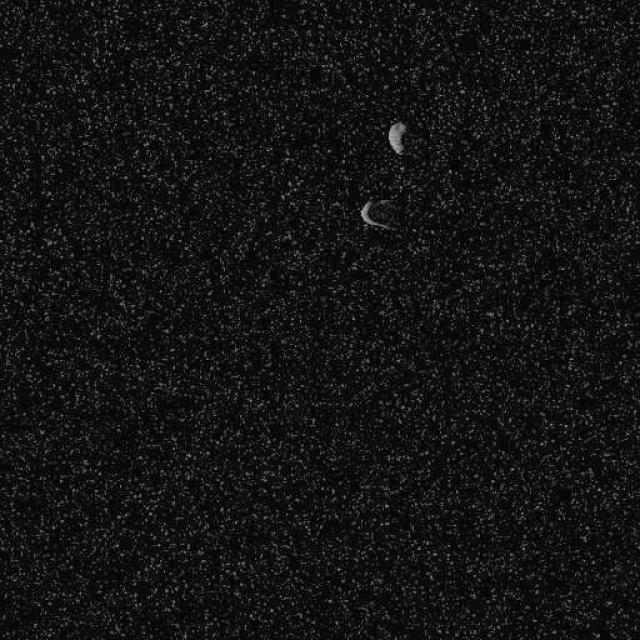D2: (359, 196, 396, 230), (386, 120, 406, 155)
